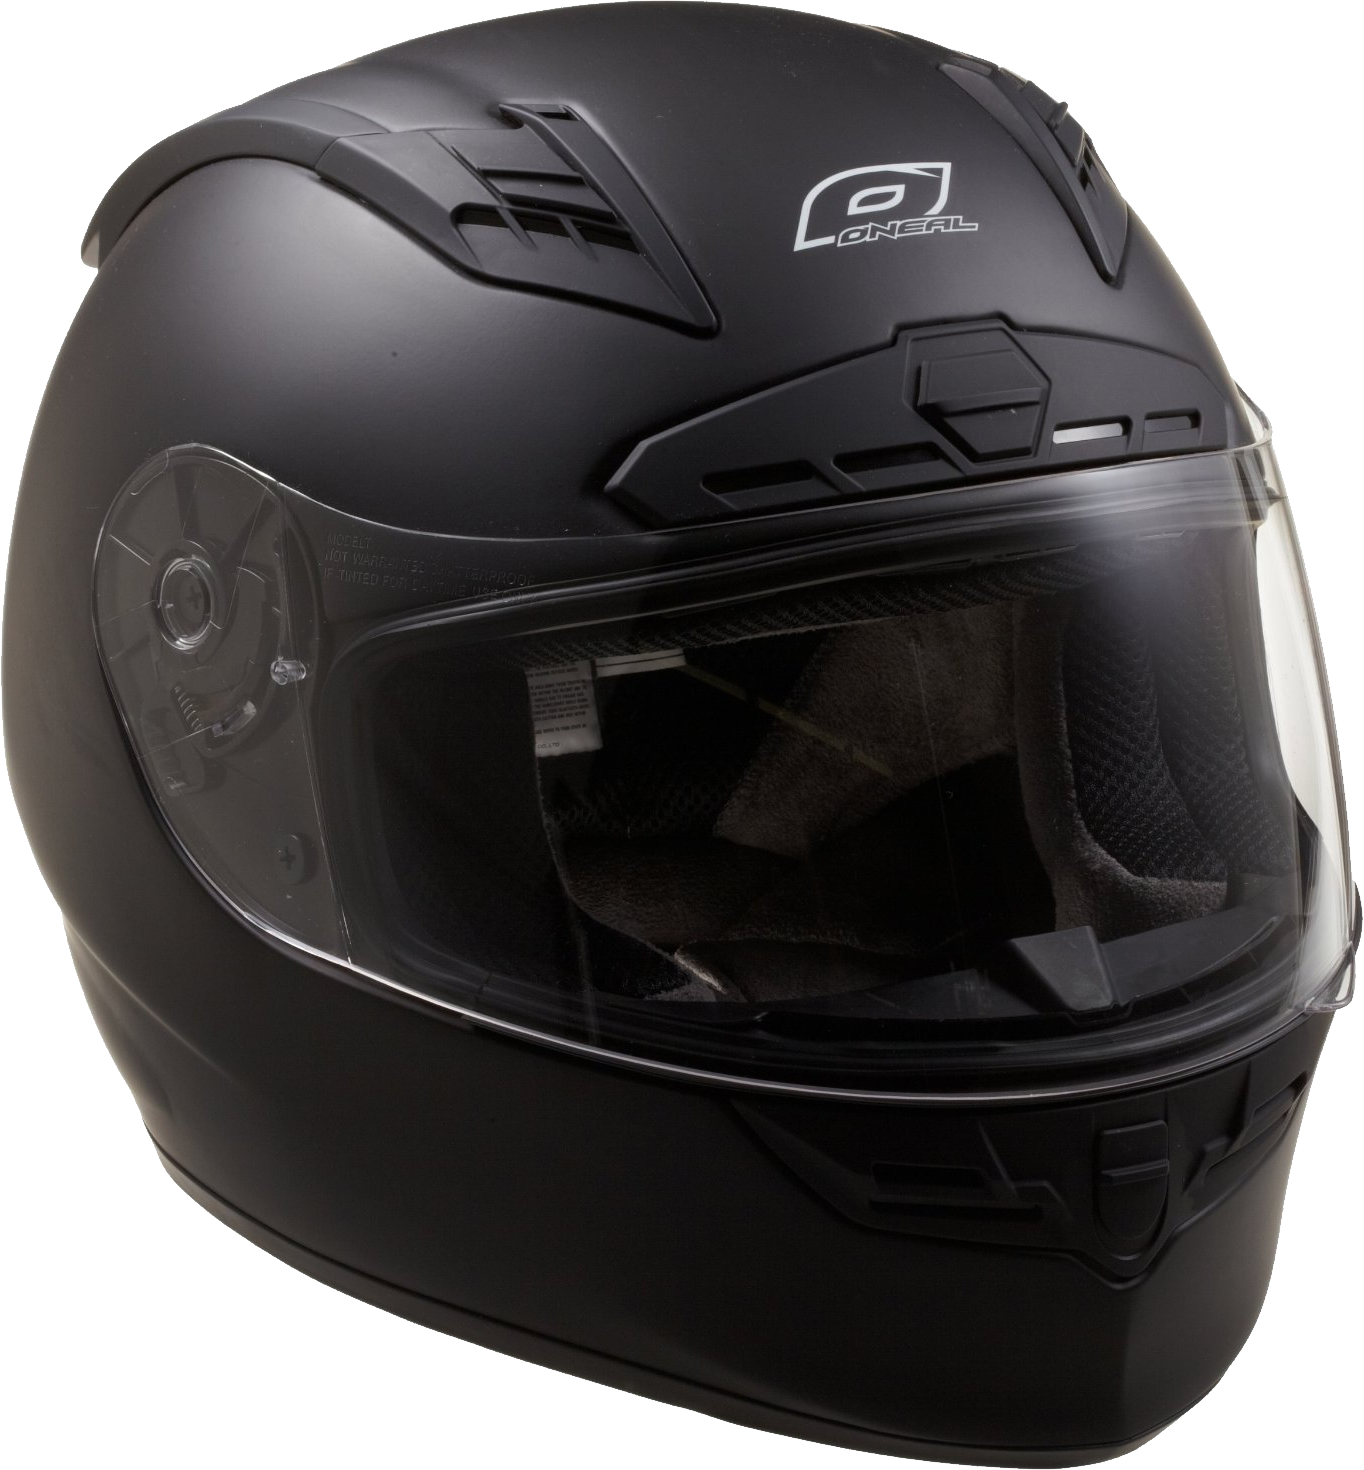with_helmet: (6, 4, 1364, 1467)
